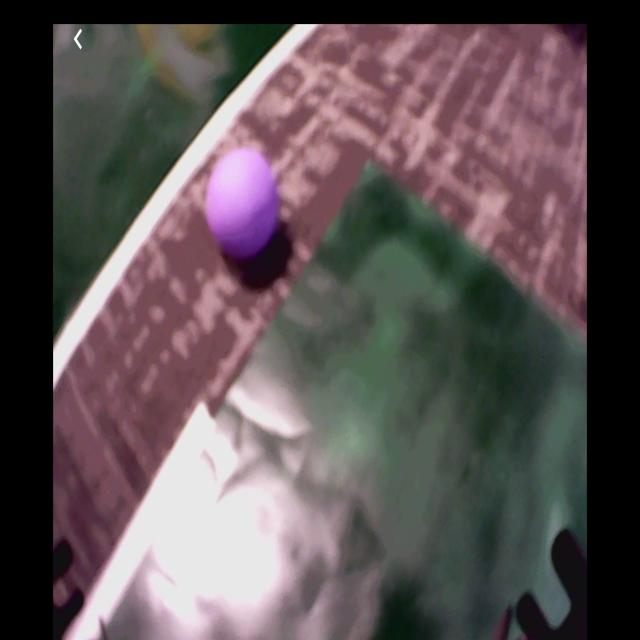ball: (206, 151, 279, 258)
